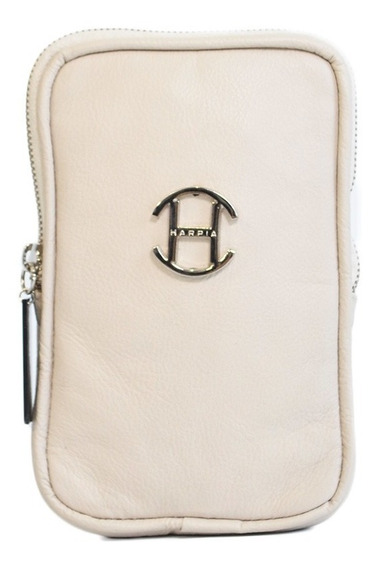cartera: (15, 23, 362, 543)
